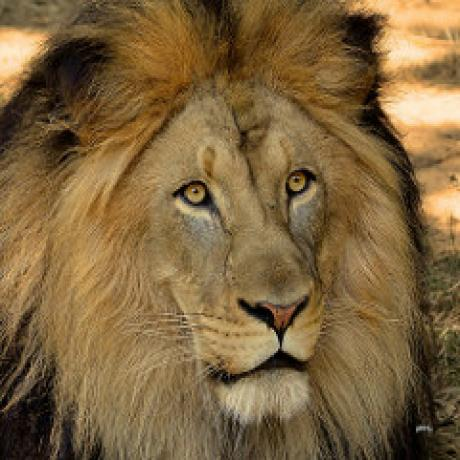Lion: (0, 0, 436, 460)
